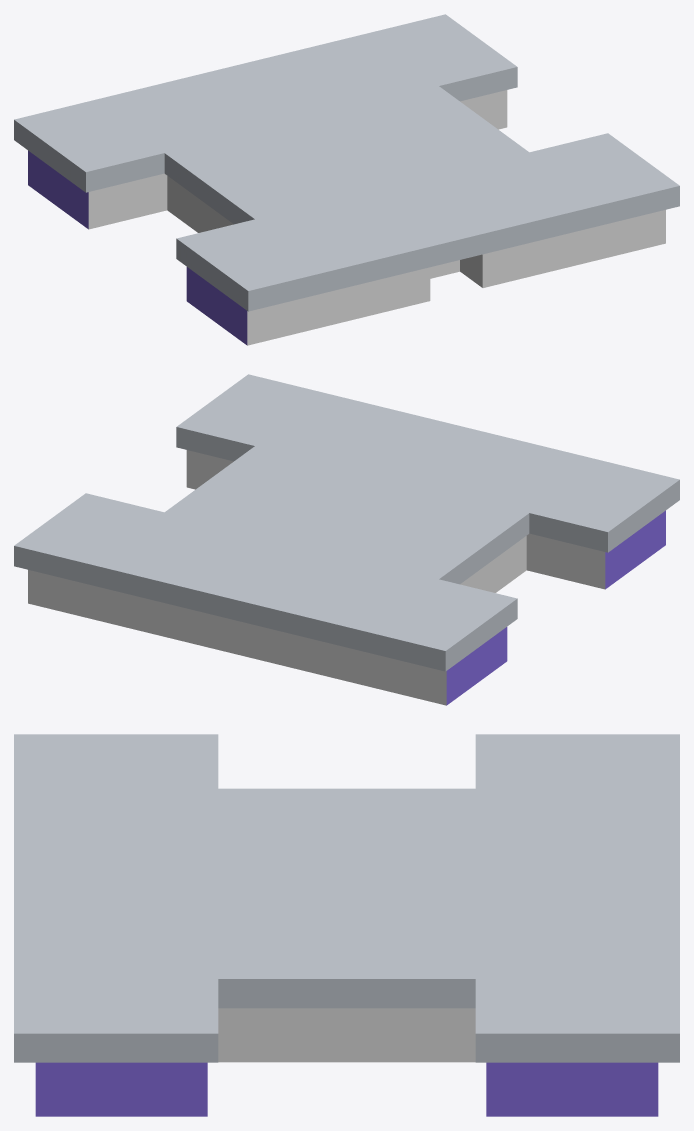
The model's file is departamentos.glb.
The picture shows the model from 3 angles, top to bottom: view 1: azimuth 30°, elevation 25°; view 2: azimuth 150°, elevation 25°; view 3: azimuth 270°, elevation 25°; orthographic projection. The views are drawn at different scales.
Parts seen in each view (by area): view 1: Departamentos; view 2: Departamentos; view 3: Departamentos.
Part boxes in pixels (left/top/right/bottom): Departamentos: left=14, top=14, right=679, bottom=345; Departamentos: left=14, top=374, right=679, bottom=705; Departamentos: left=14, top=734, right=679, bottom=1116.
Bounding box in the file's own units: 32.94 × 4.5 × 30.97.
